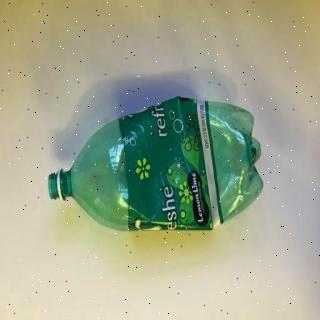Plastic-bottle: (46, 94, 270, 238)
